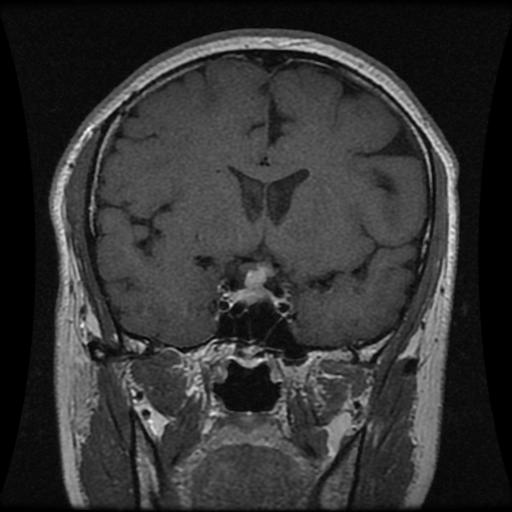Pituirity_tumour: (225, 265, 274, 302)
